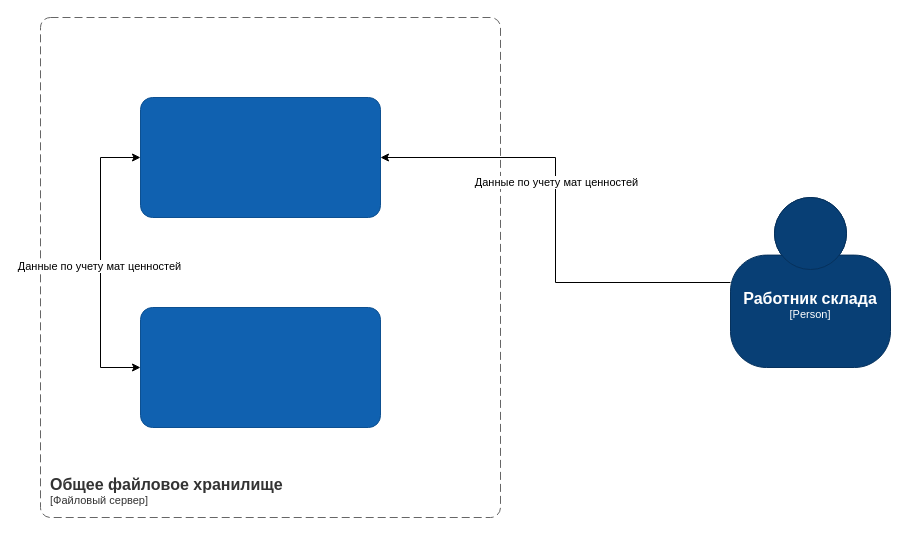
Image size: 908x535. Some labels were removed from this diagram. The centre of each missing label's shape, as x and y in pixels:
1С. Бухгалтерия предприятия [File]: the point at 260,367
1С.Торговля и склад [File]: the point at 260,157
